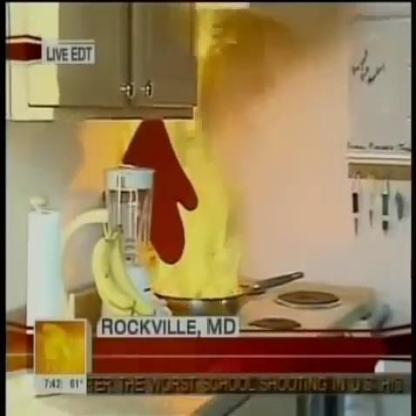fire: (142, 11, 253, 304)
